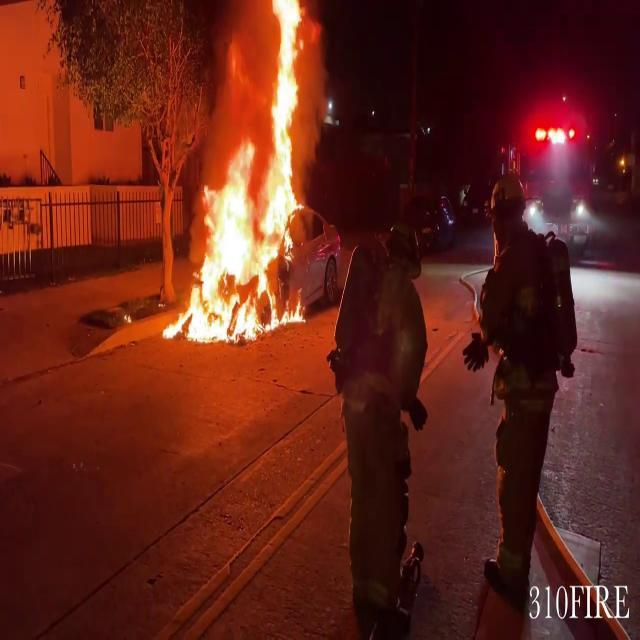Fire: (171, 0, 321, 344)
